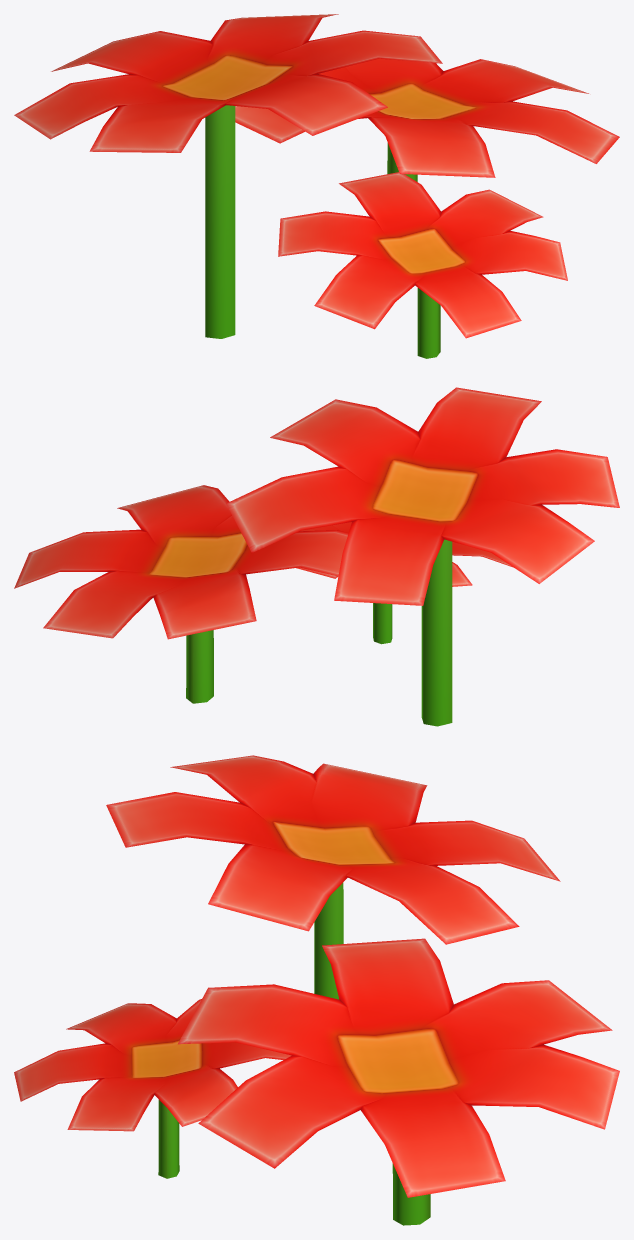
File: SM_Flower_01_B.fbx
3 renders of one model, top to bottom at view 1: azimuth 30°, elevation 25°; view 2: azimuth 150°, elevation 25°; view 3: azimuth 270°, elevation 25°, orthographic. The views are drawn at different scales.
Visible parts, largest first — view 1: polySurface663; view 2: polySurface663; view 3: polySurface663.
Boxes of the visible parts, x1,y1,x2,y2 form: polySurface663: (14,14,619,358); polySurface663: (14,387,619,726); polySurface663: (14,755,619,1225).
Size of the model in its own units: 39.91 by 18.65 by 33.95.
